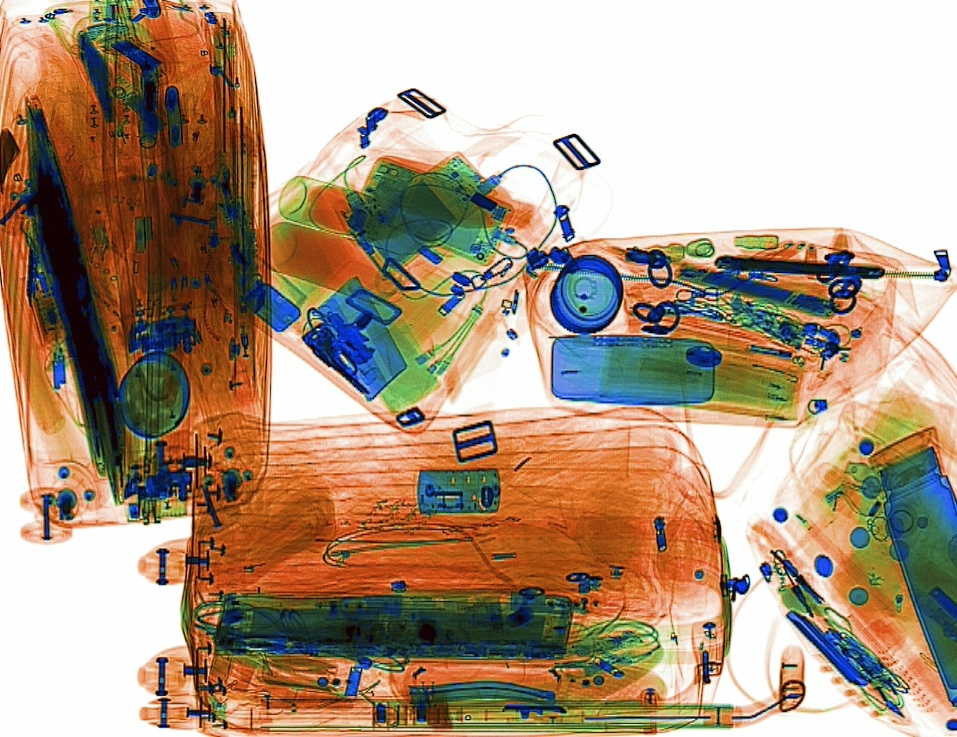pressure: (276, 173, 442, 260), (261, 217, 421, 306)
